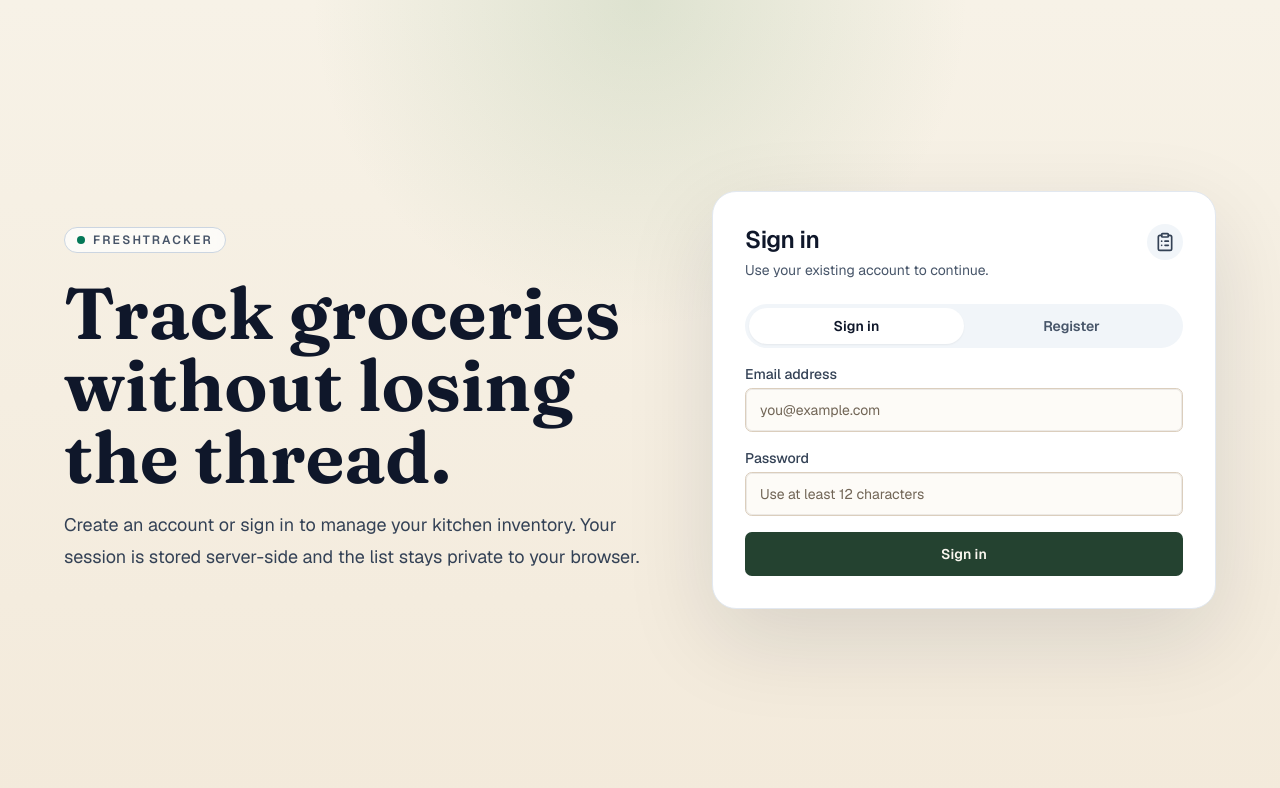
Test: FreshTracker frontend reliability › validates empty login fields and submits valid credentials successfully
Click the button "Sign in" below "Password" at (964, 554), box [745,532,1183,576]
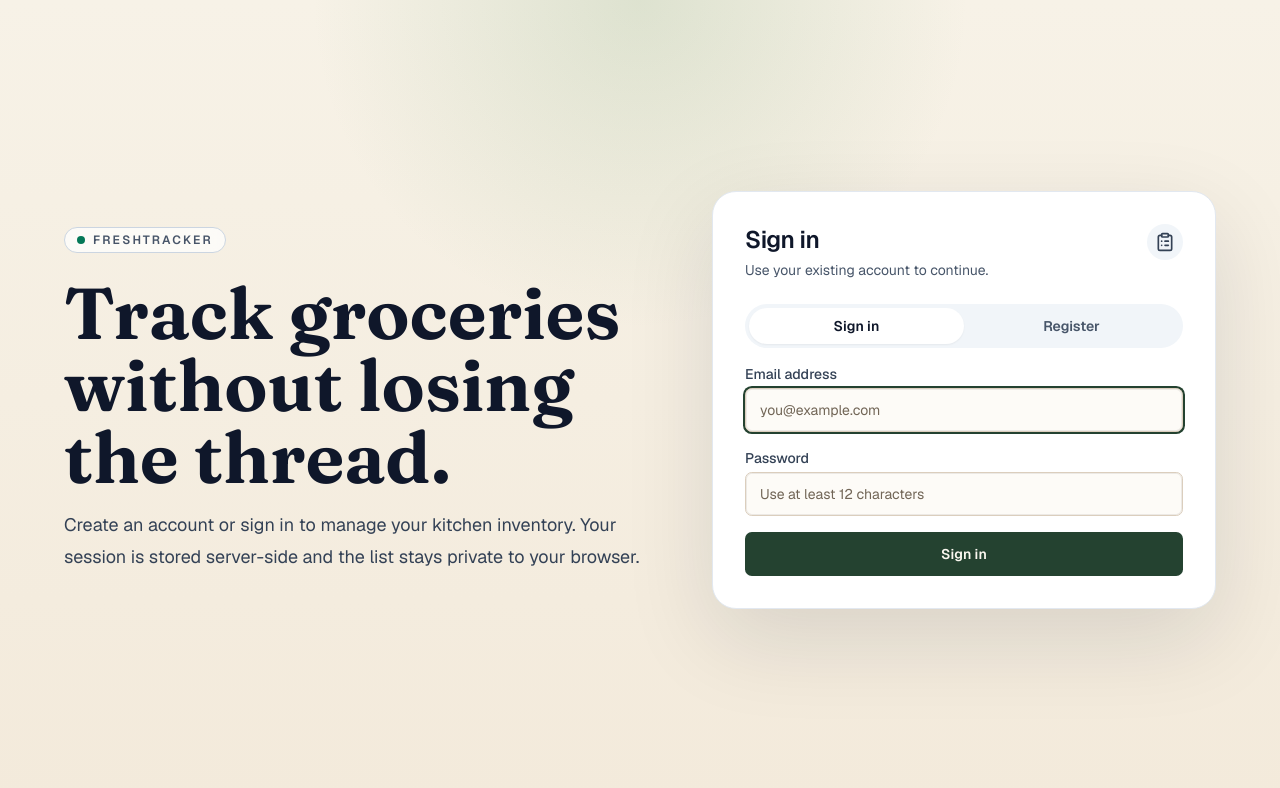
Type "cook@example.com" into the field labelled "Email address" at (964, 410), box [745,388,1183,432]
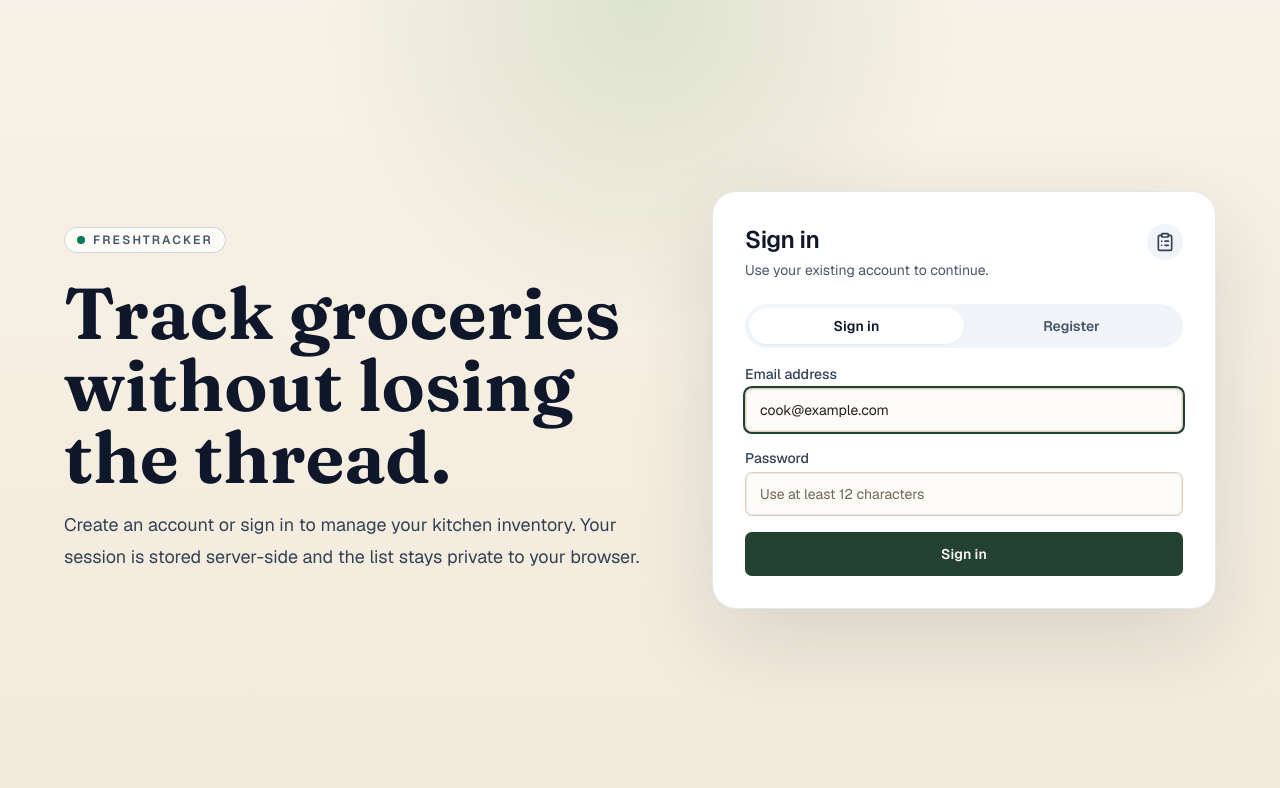
Type "Password-1234" into the password field labelled "Password" at (964, 494), box [745,472,1183,516]
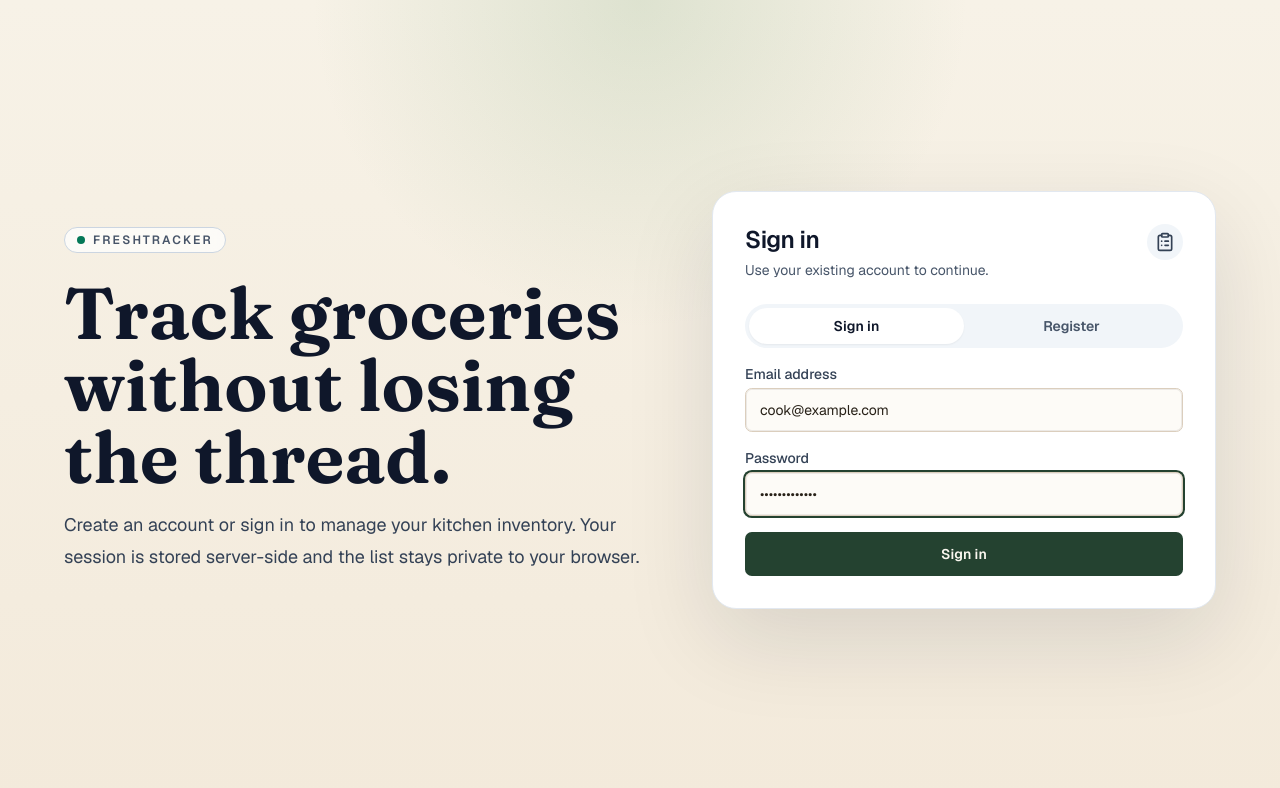
Click the button "Sign in" below "Password" at (964, 554), box [745,532,1183,576]
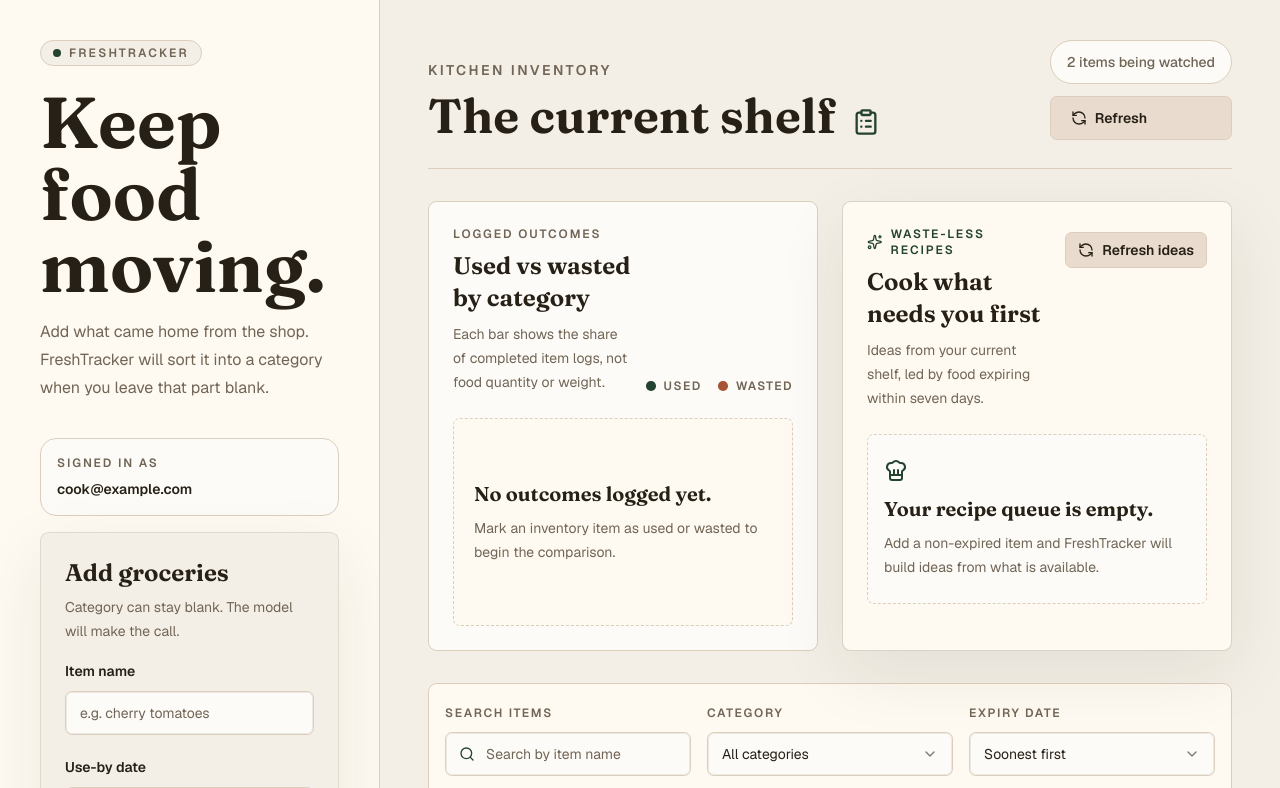
Expected: the text "cook@example.com" is shown, [57,480,192,498]
